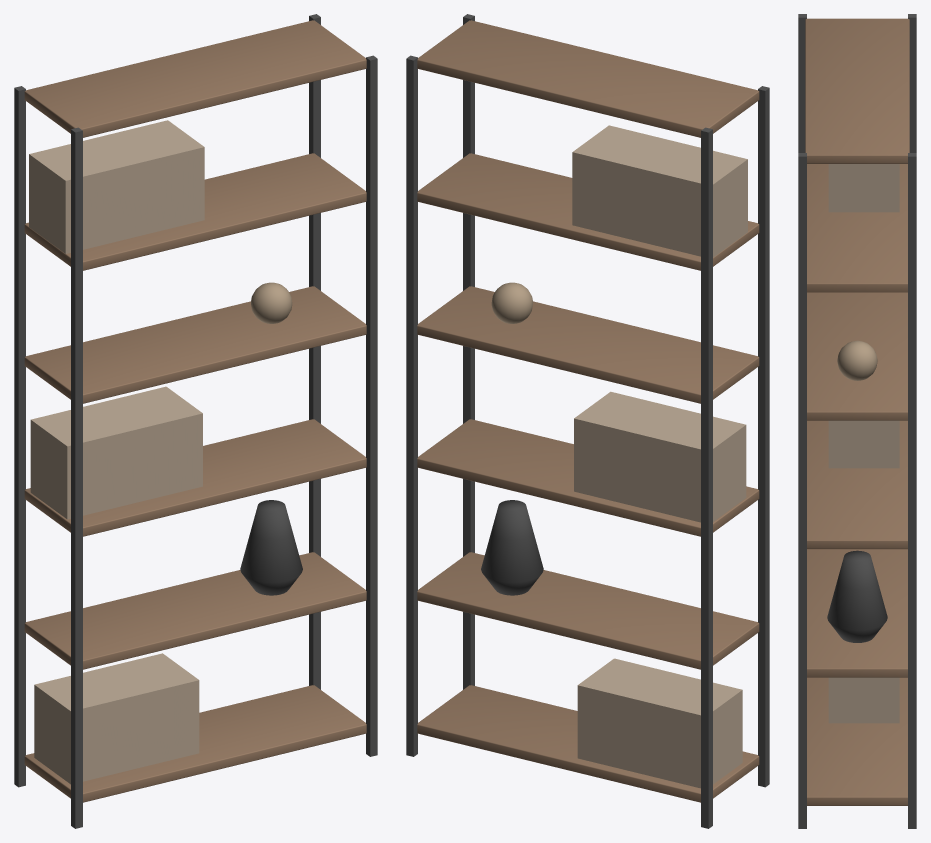
The model's file is it_shelving.glb.
The picture shows the model from 3 angles, left to right: view 1: azimuth 30°, elevation 25°; view 2: azimuth 150°, elevation 25°; view 3: azimuth 270°, elevation 25°; orthographic projection. The views are drawn at different scales.
Visible parts, largest first — view 1: shelf5, shelf3, books4, books2, shelf1, books0, shelf0, shelf2, shelf4, post, post.002, post.001 (+3 smaller); view 2: shelf5, shelf3, books4, books2, shelf1, books0, shelf0, shelf2, shelf4, post.001, post.003, post (+3 smaller); view 3: shelf5, shelf3, shelf0, shelf2, shelf4, shelf1, post.002, post.003, vase, books4, books2, books0 (+3 smaller).
Boxes of the visible parts, x1=… form: shelf5: x1=24, y1=20, x2=366, y2=137; shelf3: x1=24, y1=286, x2=366, y2=403; books4: x1=29, y1=120, x2=204, y2=253; books2: x1=30, y1=386, x2=202, y2=519; shelf1: x1=24, y1=552, x2=366, y2=669; books0: x1=34, y1=653, x2=199, y2=784; shelf0: x1=24, y1=685, x2=366, y2=802; shelf2: x1=24, y1=419, x2=366, y2=536; shelf4: x1=24, y1=153, x2=366, y2=270; post: x1=71, y1=127, x2=82, y2=828; post.002: x1=366, y1=55, x2=377, y2=756; post.001: x1=14, y1=86, x2=25, y2=787; shelf5: x1=417, y1=20, x2=759, y2=137; shelf3: x1=417, y1=286, x2=759, y2=403; books4: x1=572, y1=125, x2=747, y2=257; books2: x1=574, y1=391, x2=746, y2=522; shelf1: x1=417, y1=552, x2=759, y2=669; books0: x1=577, y1=658, x2=742, y2=788; shelf0: x1=417, y1=685, x2=759, y2=802; shelf2: x1=417, y1=419, x2=759, y2=536; shelf4: x1=417, y1=153, x2=759, y2=270; post.001: x1=701, y1=127, x2=712, y2=828; post.003: x1=406, y1=55, x2=417, y2=756; post: x1=758, y1=86, x2=769, y2=787; shelf5: x1=805, y1=18, x2=909, y2=163; shelf3: x1=807, y1=292, x2=907, y2=420; shelf0: x1=807, y1=677, x2=907, y2=805; shelf2: x1=807, y1=420, x2=907, y2=549; shelf4: x1=807, y1=164, x2=907, y2=292; shelf1: x1=807, y1=549, x2=907, y2=677; post.002: x1=798, y1=153, x2=806, y2=828; post.003: x1=908, y1=153, x2=916, y2=828; vase: x1=827, y1=550, x2=887, y2=642; books4: x1=828, y1=164, x2=899, y2=212; books2: x1=828, y1=420, x2=899, y2=468; books0: x1=828, y1=677, x2=899, y2=723.
Size of the model in its own units: 1 by 2.2 by 0.35.
